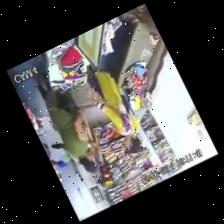person: (37, 82, 97, 171), (86, 67, 142, 152), (128, 4, 159, 35)
